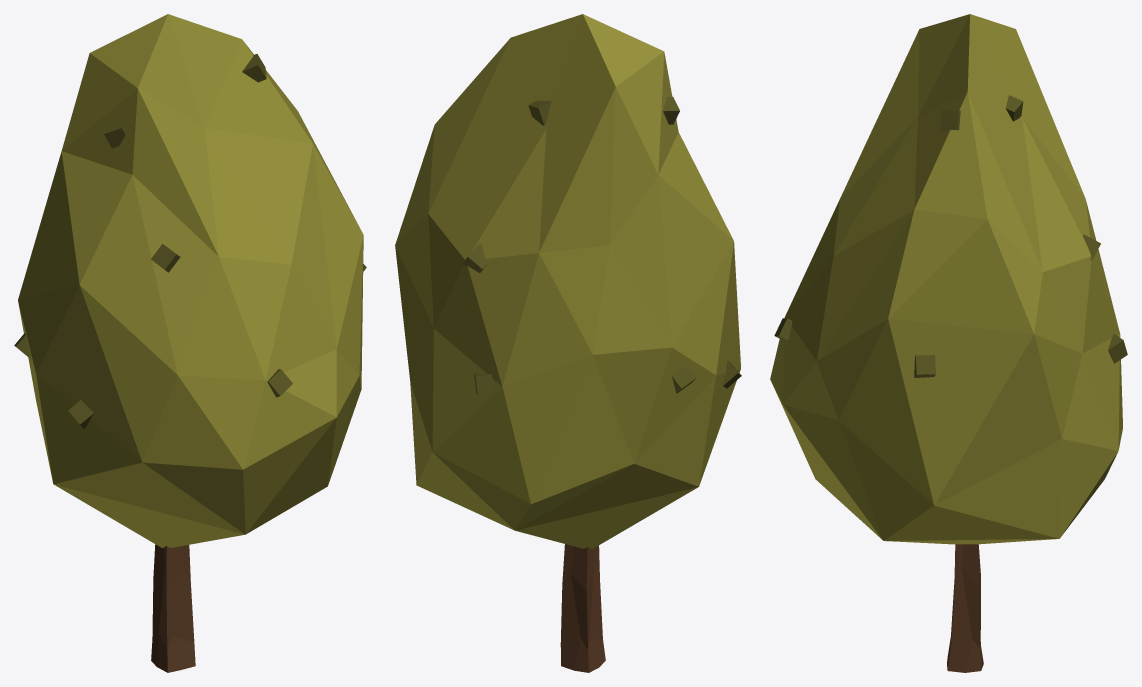
File: Tree_23_Yellow.fbx
The picture shows the model from 3 angles, left to right: view 1: azimuth 30°, elevation 25°; view 2: azimuth 150°, elevation 25°; view 3: azimuth 270°, elevation 25°; orthographic projection.
Visible parts, largest first — view 1: Tree_23_Yellow_Part_1, Tree_23_Yellow_Part_2, Tree_23_Yellow_Part_3; view 2: Tree_23_Yellow_Part_1, Tree_23_Yellow_Part_2, Tree_23_Yellow_Part_3; view 3: Tree_23_Yellow_Part_1, Tree_23_Yellow_Part_2, Tree_23_Yellow_Part_3.
Part boxes in pixels (left/top/right/bottom): Tree_23_Yellow_Part_1: left=18, top=14, right=363, bottom=547; Tree_23_Yellow_Part_2: left=151, top=544, right=195, bottom=672; Tree_23_Yellow_Part_3: left=14, top=54, right=366, bottom=428; Tree_23_Yellow_Part_1: left=395, top=14, right=740, bottom=549; Tree_23_Yellow_Part_2: left=560, top=544, right=605, bottom=672; Tree_23_Yellow_Part_3: left=463, top=96, right=741, bottom=395; Tree_23_Yellow_Part_1: left=770, top=14, right=1122, bottom=544; Tree_23_Yellow_Part_2: left=947, top=544, right=983, bottom=672; Tree_23_Yellow_Part_3: left=774, top=95, right=1127, bottom=377.
Size of the model in its own units: 398 by 799 by 399.
